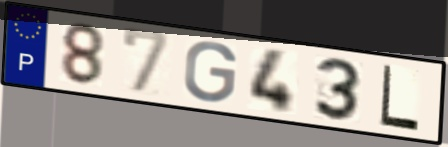3: (312, 55, 364, 124)
4: (245, 46, 300, 117)
7: (119, 25, 175, 98)
8: (58, 21, 108, 88)
G: (181, 39, 240, 105)
L: (377, 62, 422, 134)
